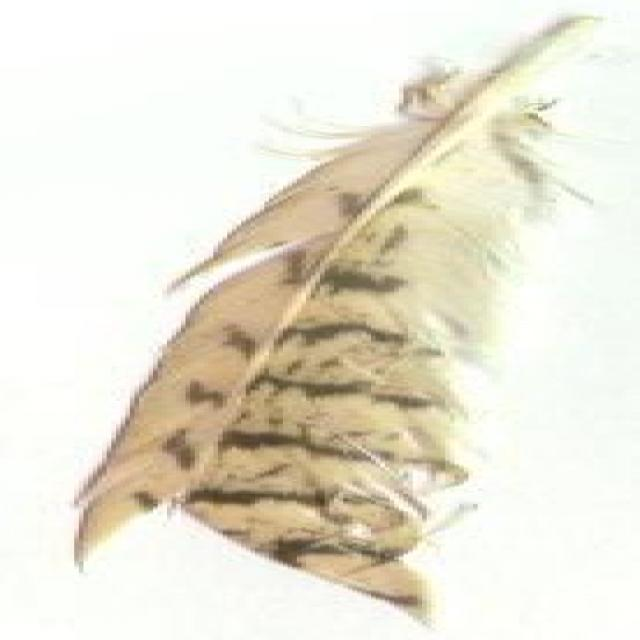feather: (70, 14, 594, 626)
